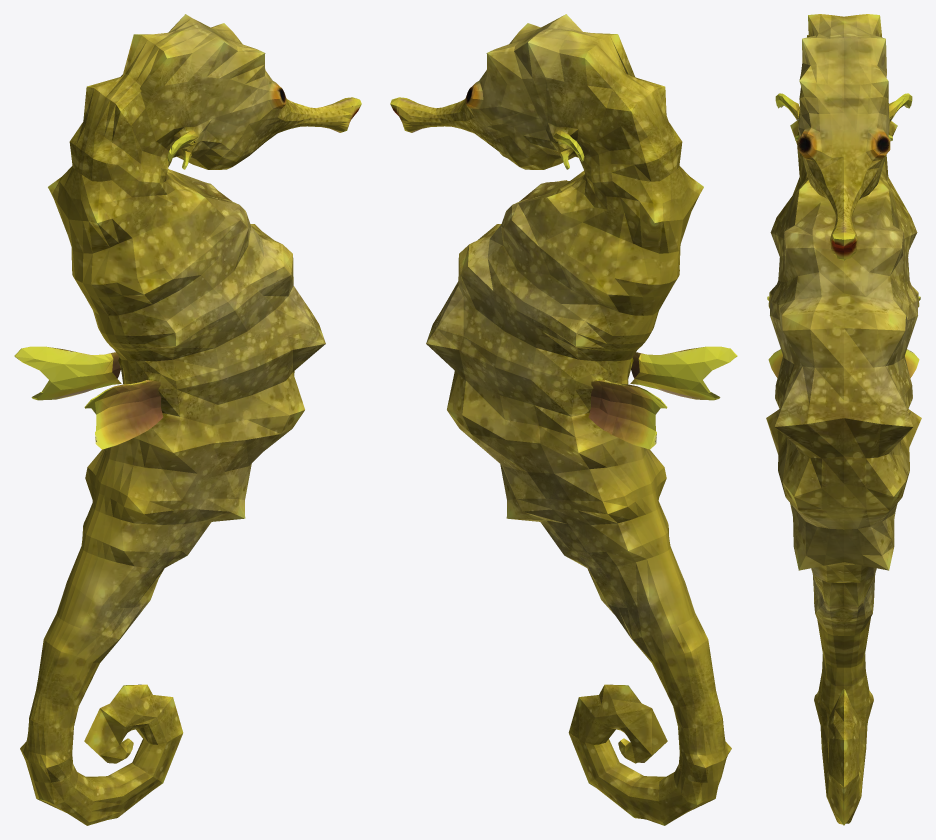
The model's file is seahorse.glb.
The picture shows the model from 3 angles, left to right: view 1: azimuth 30°, elevation 25°; view 2: azimuth 150°, elevation 25°; view 3: azimuth 270°, elevation 25°; orthographic projection. The views are drawn at different scales.
Parts seen in each view (by area): view 1: seahorse; view 2: seahorse; view 3: seahorse.
Part boxes in pixels (bbox=[...]): seahorse: bbox=[14, 14, 361, 825]; seahorse: bbox=[390, 14, 737, 825]; seahorse: bbox=[766, 14, 921, 825].
Bounding box in the file's own units: 1 × 2.21 × 0.3738.
1 material, 1 textured.
